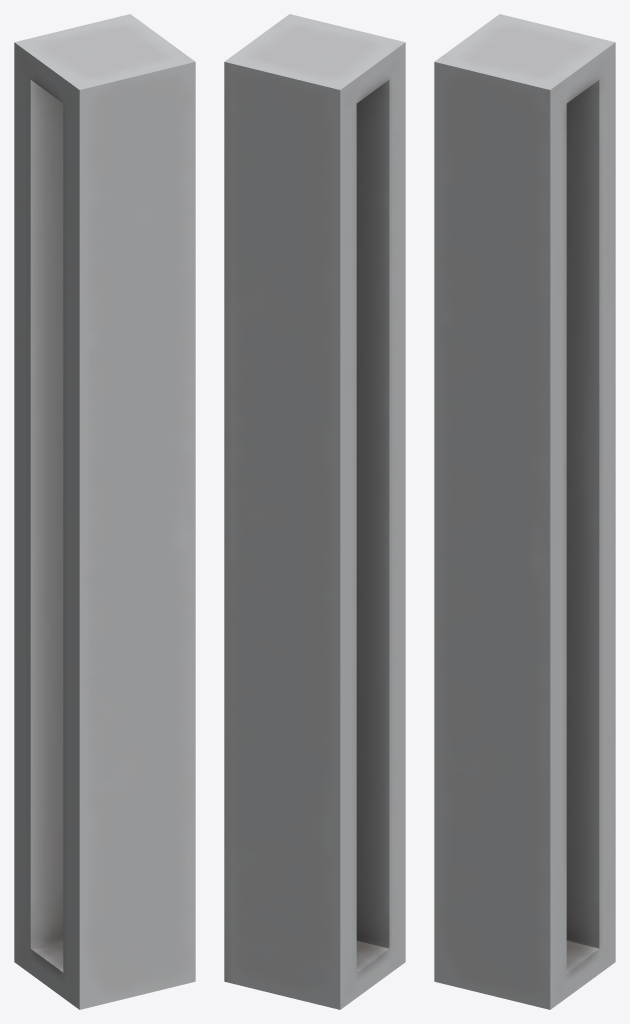
File: Pfb_SteelFrame.fbx
3 views of the same model, side by side, from view 1: azimuth 30°, elevation 25°; view 2: azimuth 150°, elevation 25°; view 3: azimuth 330°, elevation 25° (orthographic).
Parts seen in each view (by area): view 1: Mat_SteelFrame_01; view 2: Mat_SteelFrame_01; view 3: Mat_SteelFrame_01.
Part boxes in pixels (x1,y1,x2,y2): Mat_SteelFrame_01: (14, 14, 195, 1009); Mat_SteelFrame_01: (224, 14, 405, 1009); Mat_SteelFrame_01: (434, 14, 615, 1009).
Size of the model in its own units: 0.3299 by 2.5 by 0.3219.
Materials: 1 (1 with a texture image).
